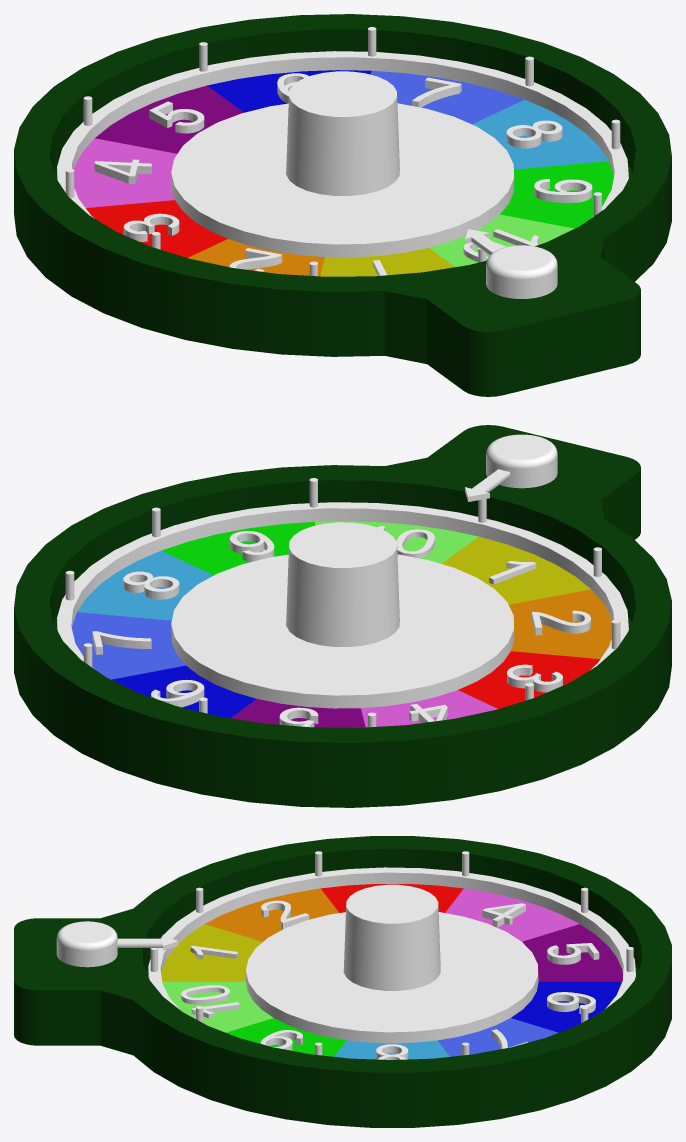
The picture shows the model from 3 angles, top to bottom: view 1: azimuth 30°, elevation 25°; view 2: azimuth 150°, elevation 25°; view 3: azimuth 270°, elevation 25°; orthographic projection. The views are drawn at different scales.
Visible parts, largest first — view 1: Body_r1, r_out, r_pin_r_out.001; view 2: Body_r1, r_out, r_pin_r_out.001; view 3: Body_r1, r_out, r_pin_r_out.001.
Part boxes in pixels (bbox=[...]): Body_r1: bbox=[57, 27, 628, 276]; r_out: bbox=[14, 14, 671, 396]; r_pin_r_out.001: bbox=[465, 229, 557, 298]; Body_r1: bbox=[57, 478, 628, 727]; r_out: bbox=[14, 425, 671, 807]; r_pin_r_out.001: bbox=[465, 434, 557, 501]; Body_r1: bbox=[148, 851, 635, 1059]; r_out: bbox=[14, 836, 671, 1127]; r_pin_r_out.001: bbox=[56, 921, 178, 967].
Bounding box in the file's own units: 22933 × 4768 × 26965.
